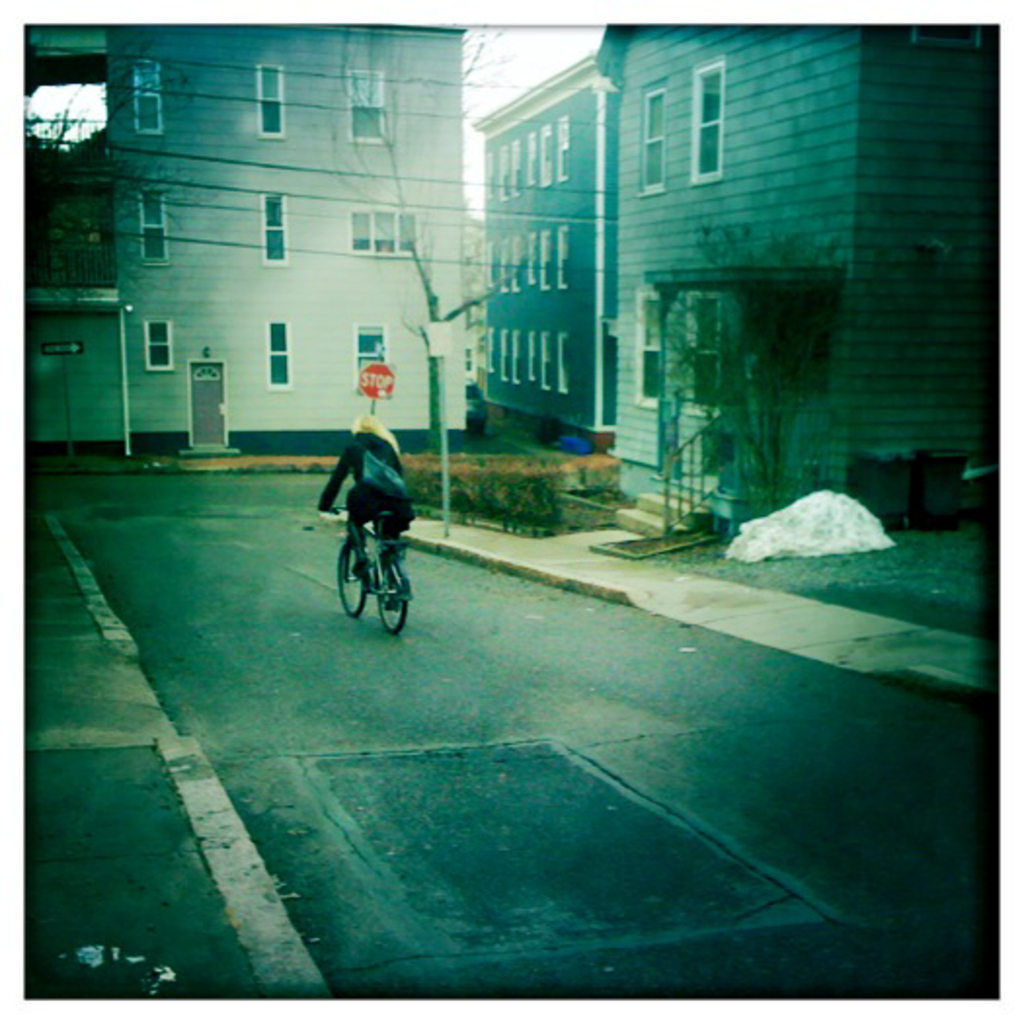Bike_away: (323, 498, 420, 635)
